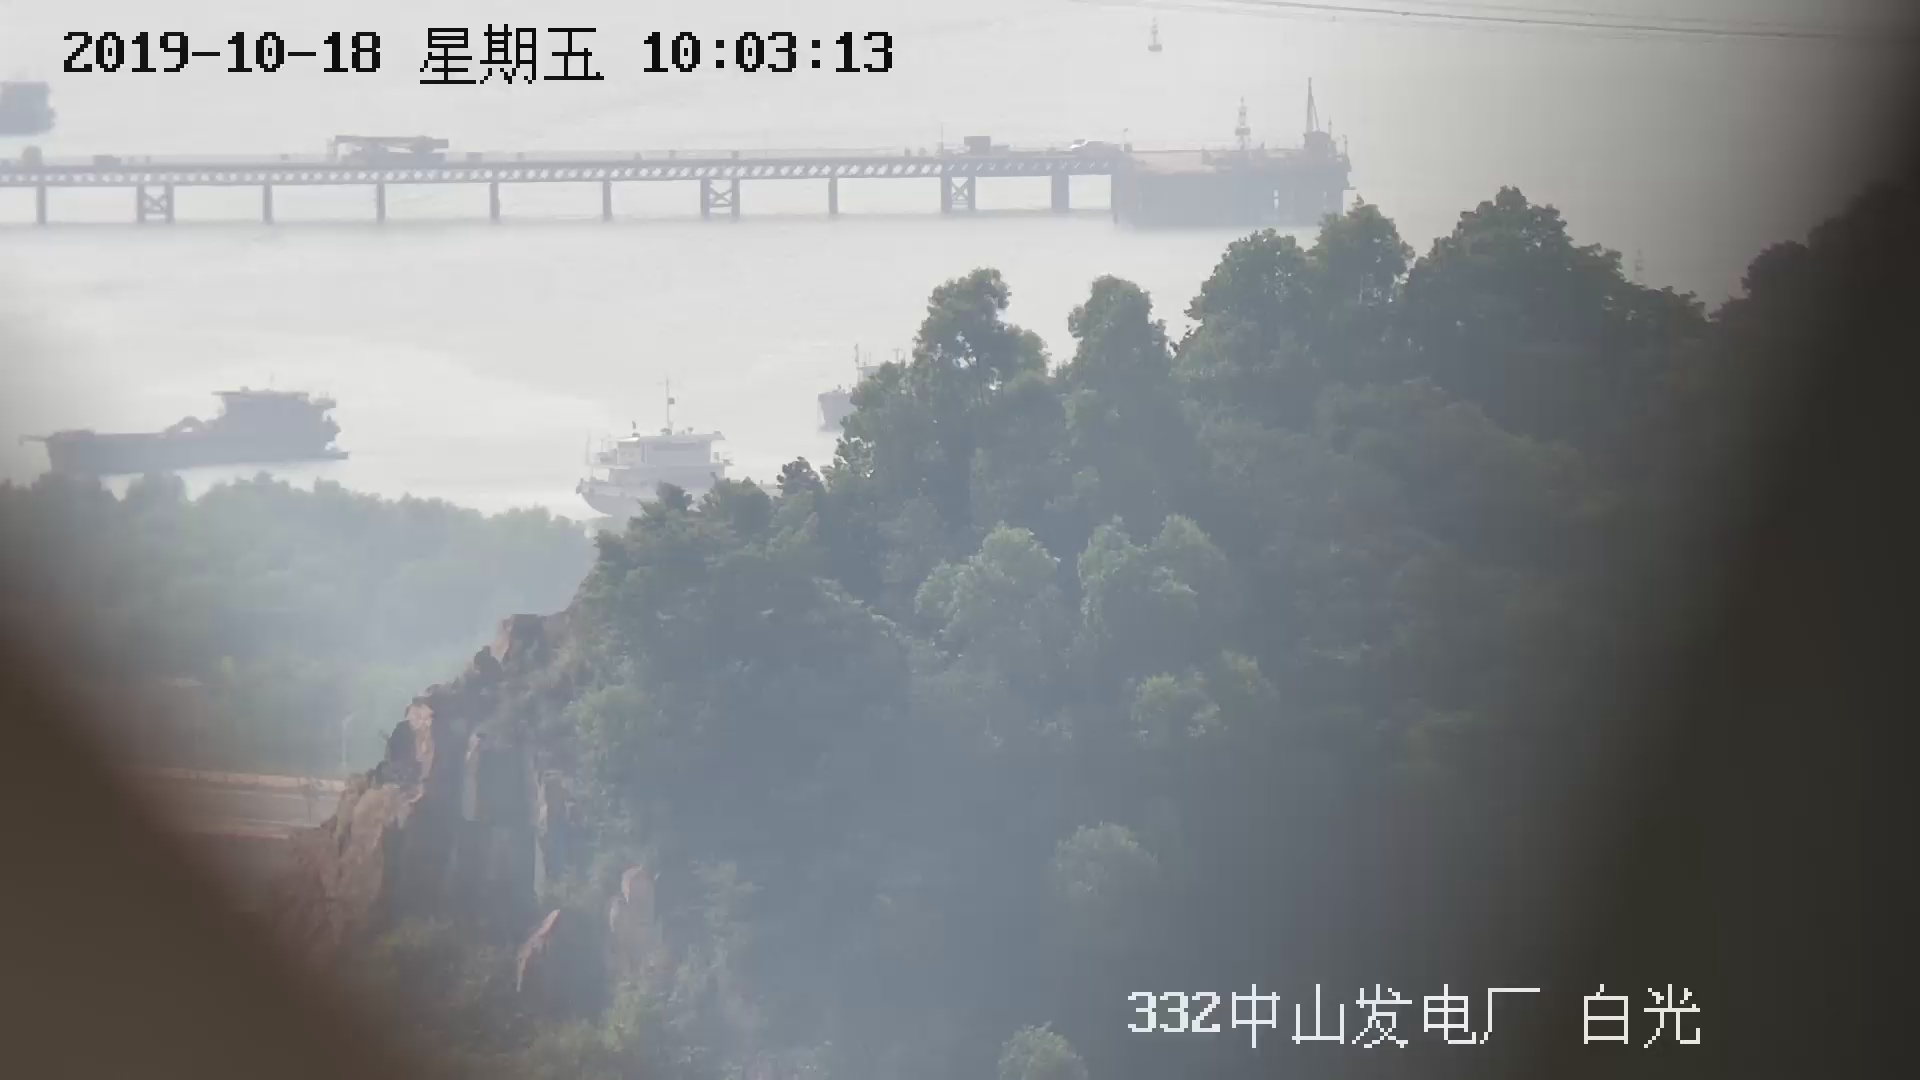ship: (30, 382, 342, 467)
